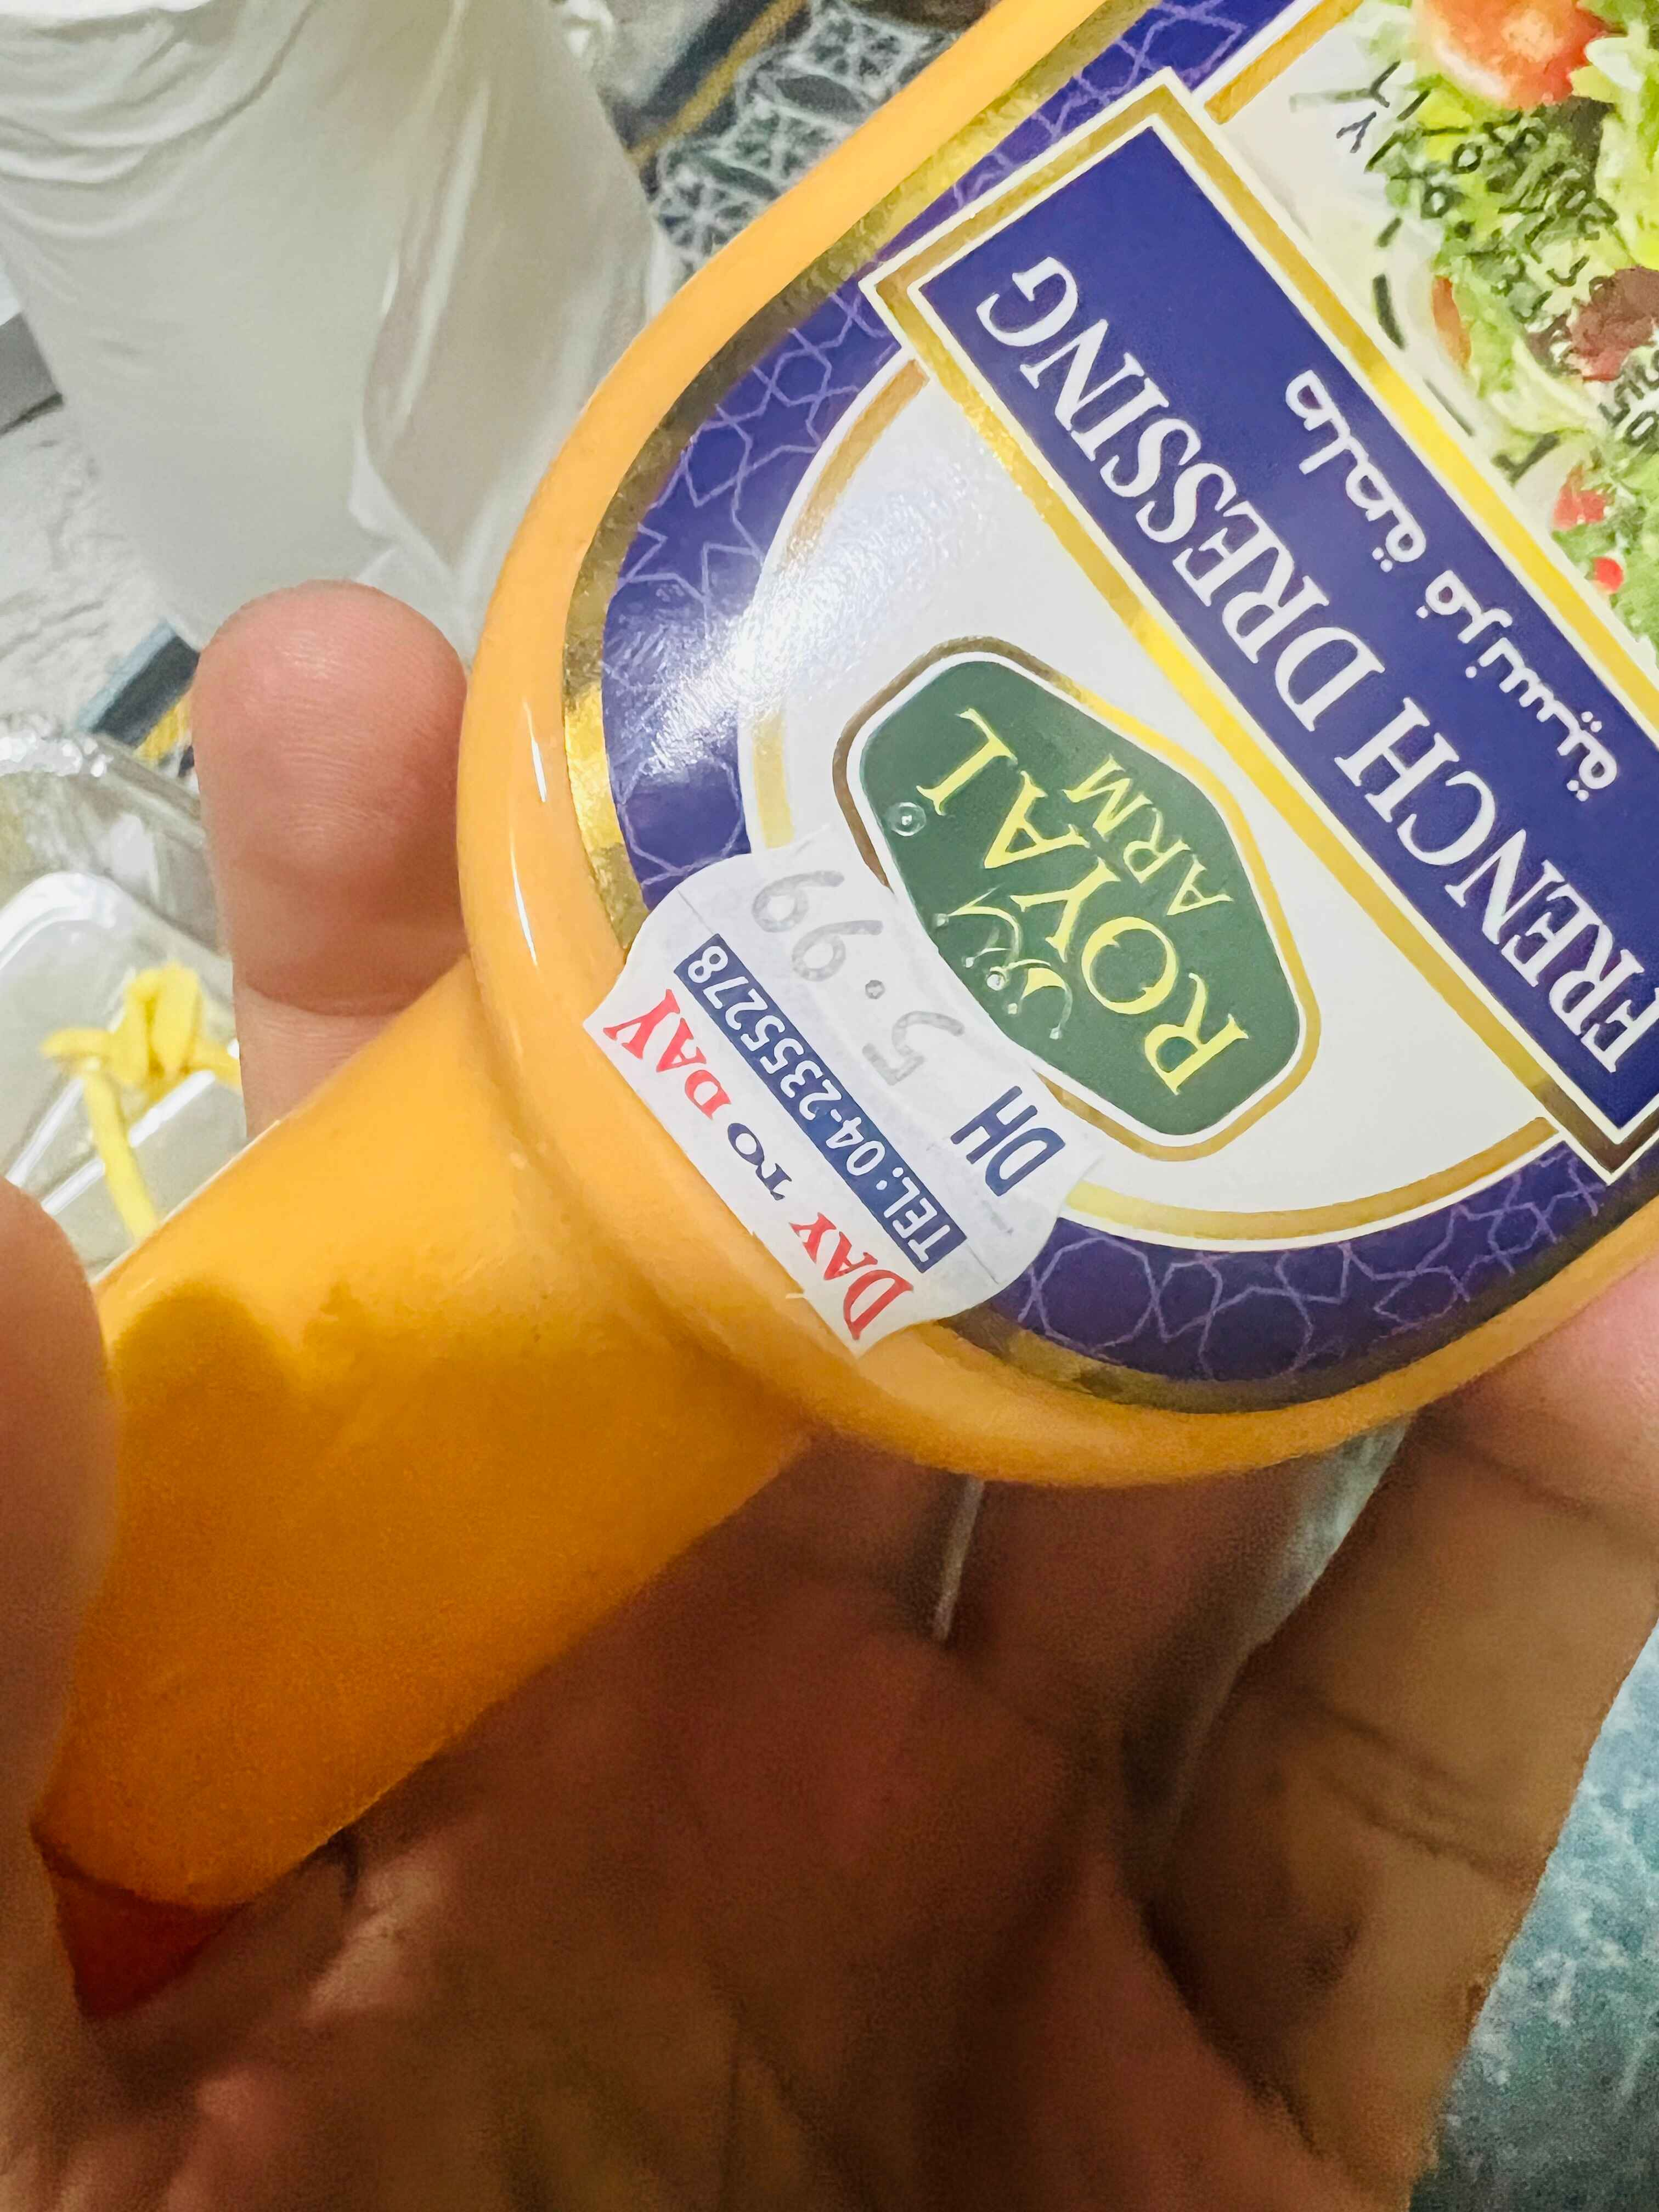PriceTagSmall: (568, 822, 1094, 1360)
